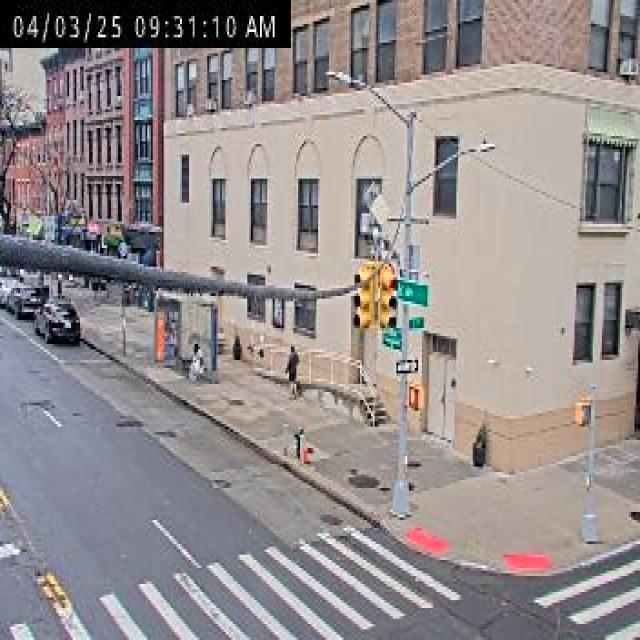open parking: (4, 268, 372, 542)
